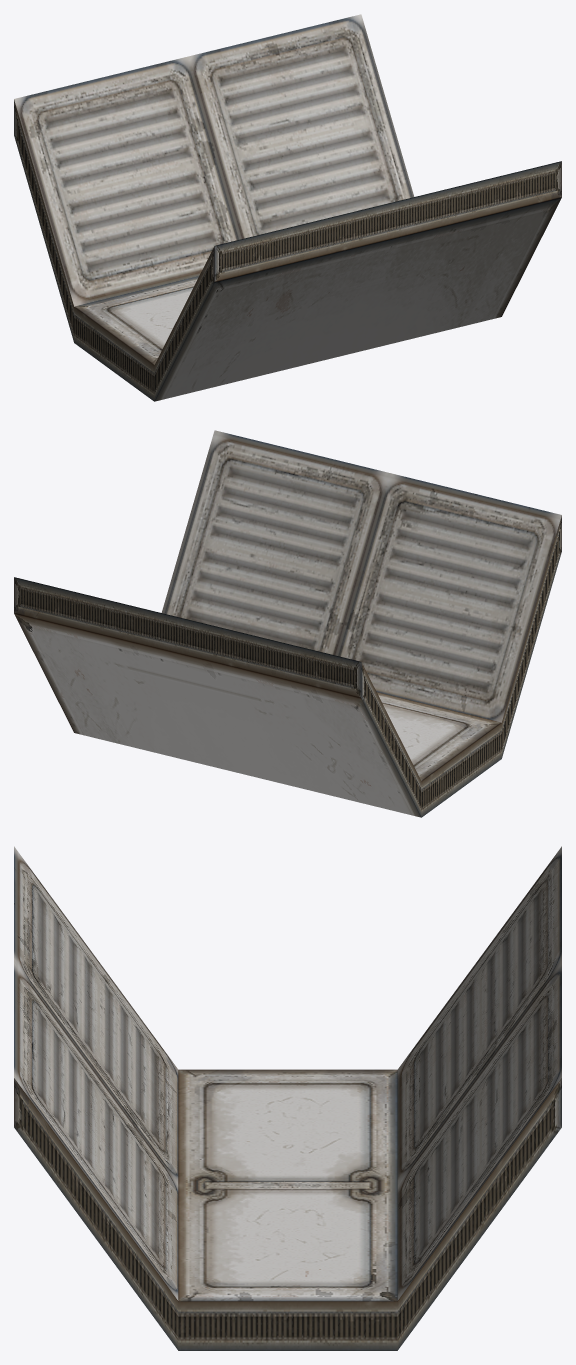
File: scifi_pit_7.FBX
3 views of the same model, one above another, from view 1: azimuth 30°, elevation 25°; view 2: azimuth 150°, elevation 25°; view 3: azimuth 270°, elevation 25° (orthographic). The views are drawn at different scales.
Parts seen in each view (by area): view 1: Plane078; view 2: Plane078; view 3: Plane078.
Boxes of the visible parts, x1,y1,x2,y2 form: Plane078: (14,14,561,401); Plane078: (14,430,561,817); Plane078: (14,846,561,1350).
Size of the model in its own units: 254 by 140 by 254.
